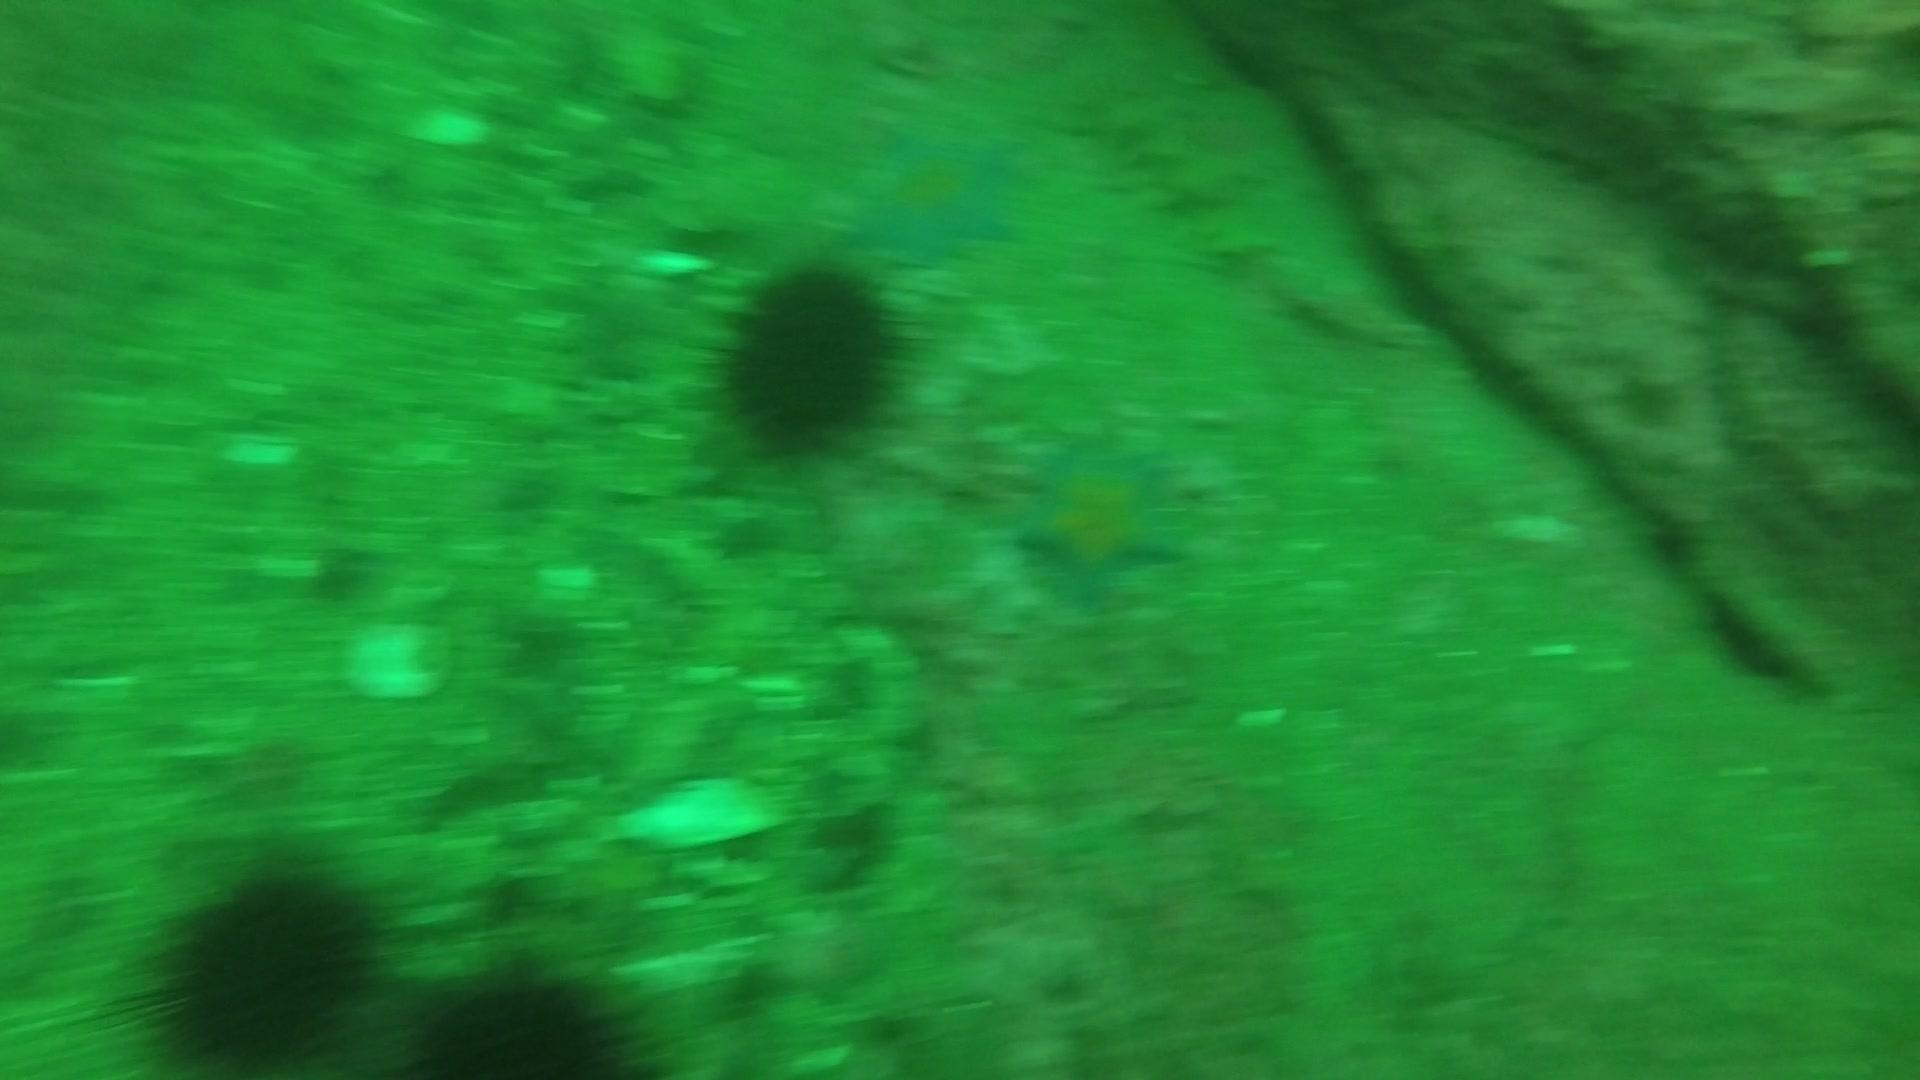echinus: (125, 852, 393, 1069), (702, 253, 915, 460), (398, 949, 649, 1076)
starfish: (998, 429, 1197, 611), (843, 113, 1033, 270)
